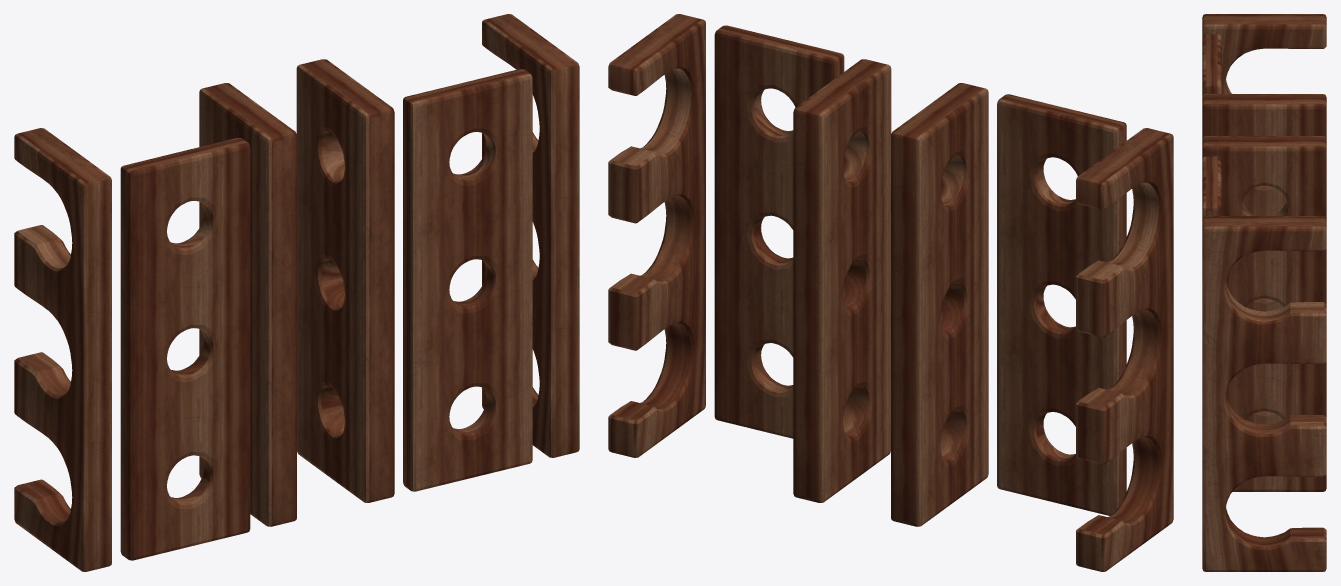
File: shkaff_wine_midl_.FBX
3 renders of one model, left to right at view 1: azimuth 30°, elevation 25°; view 2: azimuth 150°, elevation 25°; view 3: azimuth 270°, elevation 25°, orthographic. The views are drawn at different scales.
Parts seen in each view (by area): view 1: shkaff_wine_midl_; view 2: shkaff_wine_midl_; view 3: shkaff_wine_midl_.
Boxes of the visible parts, box(x1,y1,x2,y2) form: shkaff_wine_midl_: box(14, 14, 579, 571); shkaff_wine_midl_: box(608, 14, 1173, 571); shkaff_wine_midl_: box(1202, 14, 1326, 571).
Size of the model in its own units: 409 by 306 by 100.
Materials: 1 (1 with a texture image).
